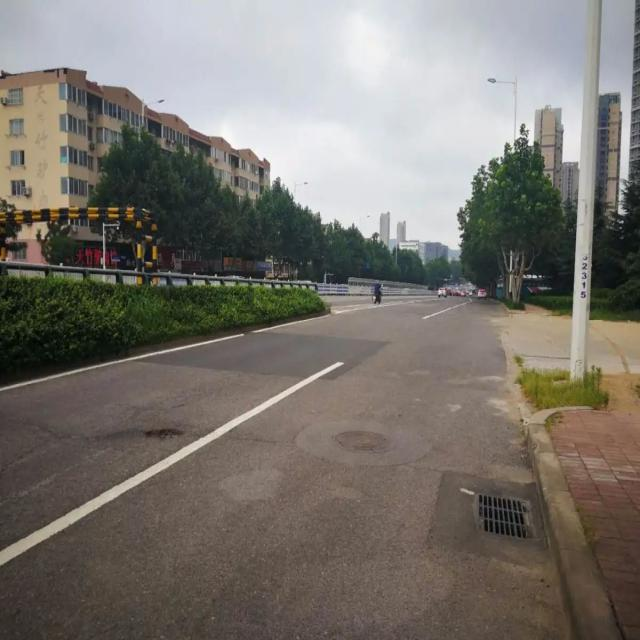Pothole: (142, 423, 182, 443)
